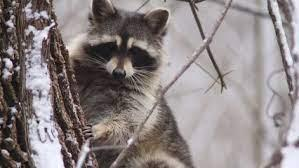raccoon: (43, 0, 206, 168)
